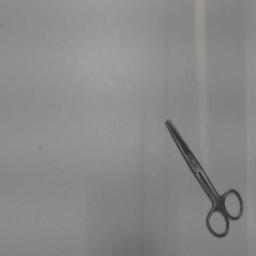Dressing Scissors: (158, 110, 248, 242)
